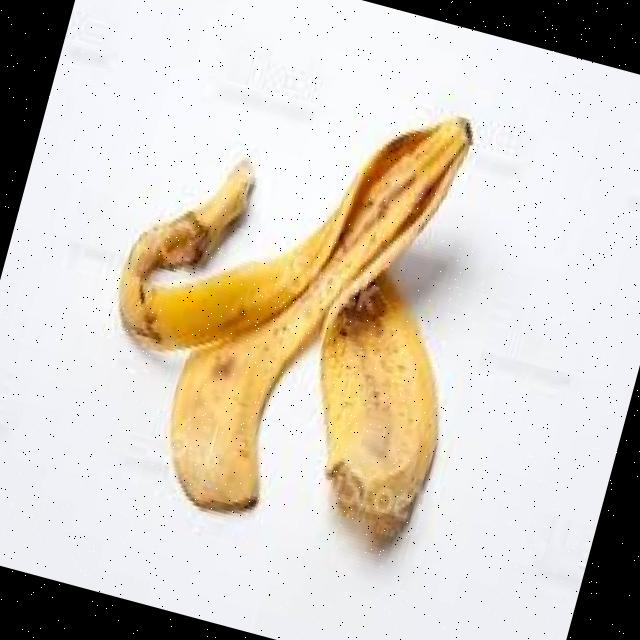banana-peel: (67, 39, 521, 563), (274, 258, 478, 550), (102, 130, 262, 364)
